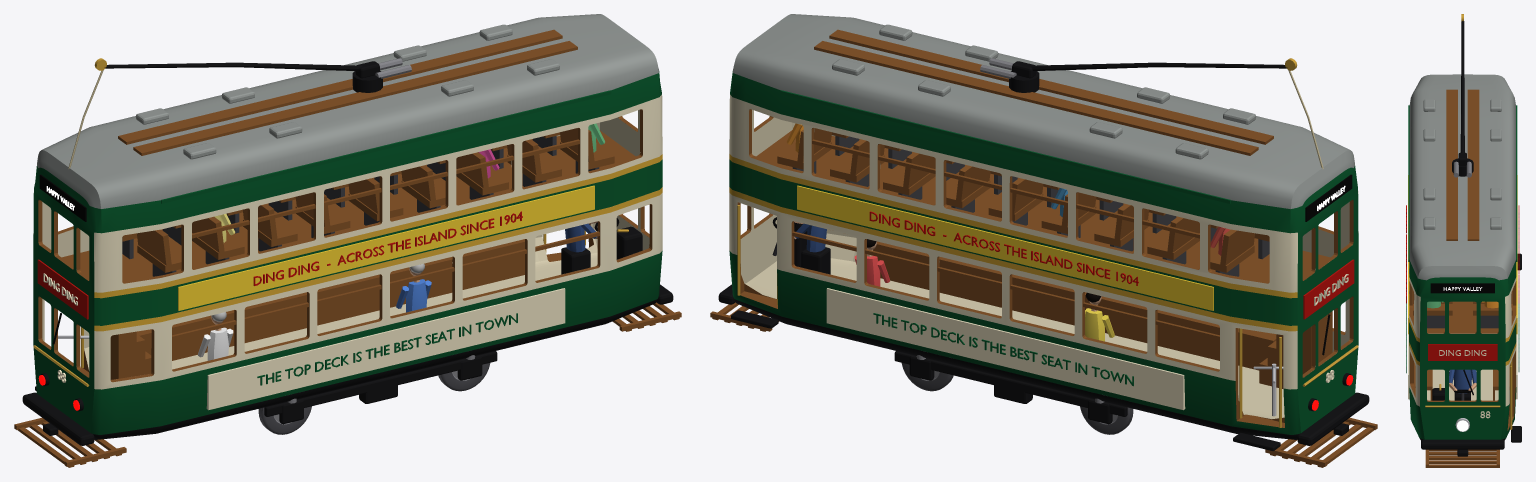
The model's file is tram.glb.
The picture shows the model from 3 angles, left to right: view 1: azimuth 30°, elevation 25°; view 2: azimuth 150°, elevation 25°; view 3: azimuth 270°, elevation 25°; orthographic projection. The views are drawn at different scales.
Visible parts, largest first — view 1: body; view 2: body; view 3: body.
Boxes of the visible parts, x1=… form: body: x1=14, y1=14, x2=681, y2=467; body: x1=710, y1=14, x2=1377, y2=467; body: x1=1406, y1=14, x2=1521, y2=467.
Bounding box in the file's own units: 9.3 × 5.68 × 2.16.
